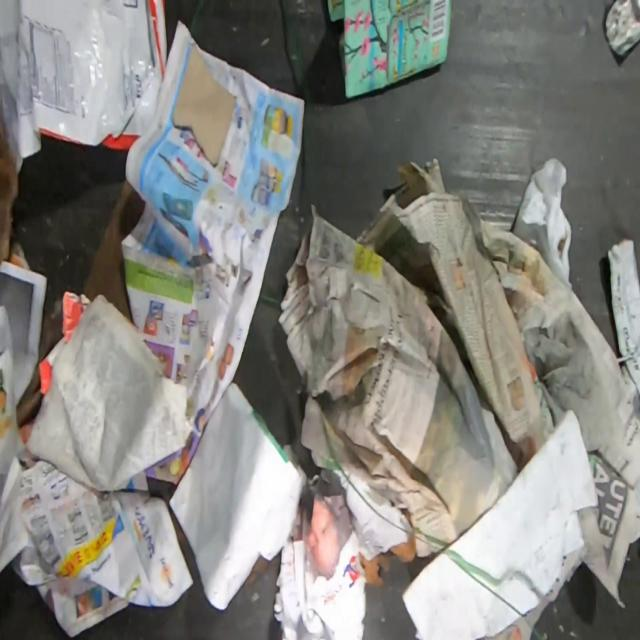cardboard: (327, 0, 452, 98), (173, 46, 237, 167), (0, 132, 18, 264)
soft_plastic: (0, 0, 169, 168)
